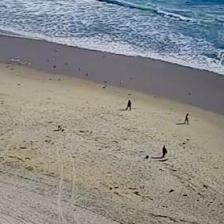surfer: (186, 2, 190, 4)
